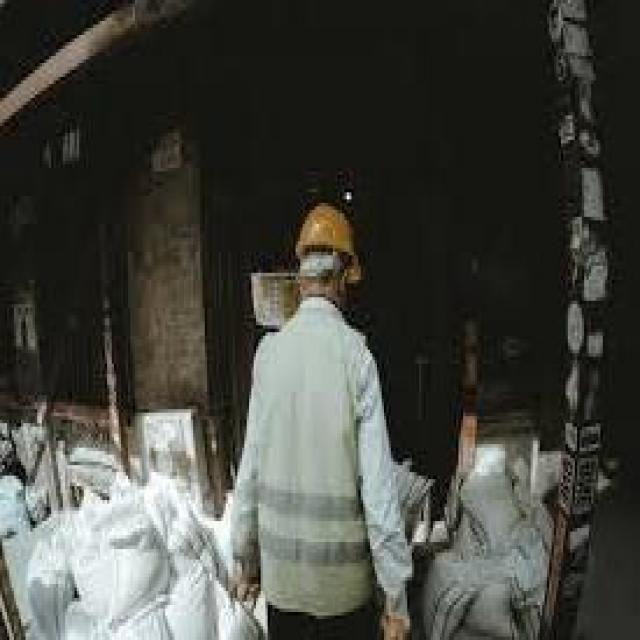Reflective-Jacket: (244, 315, 385, 617)
Safety-Helmet: (284, 189, 372, 287)
